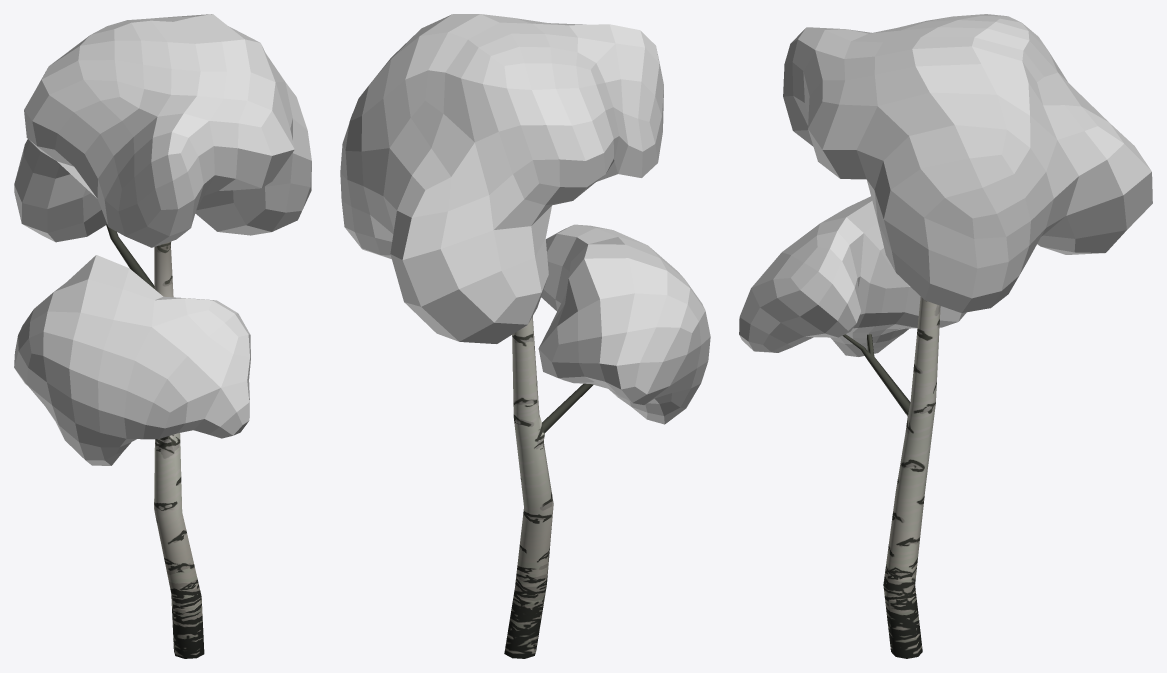
The model's file is Birch #1.fbx.
The picture shows the model from 3 angles, left to right: view 1: azimuth 30°, elevation 25°; view 2: azimuth 150°, elevation 25°; view 3: azimuth 270°, elevation 25°; orthographic projection. The views are drawn at different scales.
Parts seen in each view (by area): view 1: birch1_crown, BIRCH1_trunk, BIRCH1_stump; view 2: birch1_crown, BIRCH1_trunk, BIRCH1_stump; view 3: birch1_crown, BIRCH1_trunk, BIRCH1_stump.
Boxes of the visible parts, x1,y1,x2,y2 form: birch1_crown: (14,14,311,465); BIRCH1_trunk: (106,224,204,658); BIRCH1_stump: (172,621,203,658); birch1_crown: (340,14,710,424); BIRCH1_trunk: (504,316,593,658); BIRCH1_stump: (504,617,541,658); birch1_crown: (739,14,1152,356); BIRCH1_trunk: (842,297,940,658); BIRCH1_stump: (888,616,922,658).
Size of the model in its own units: 198 by 388 by 233.
